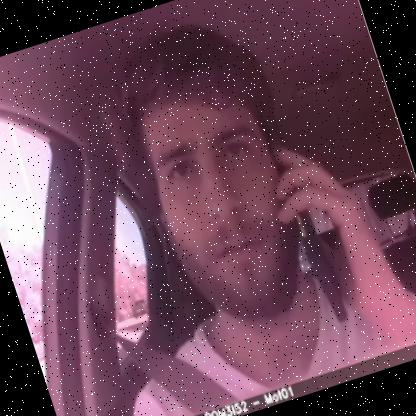phone: (256, 130, 364, 330)
